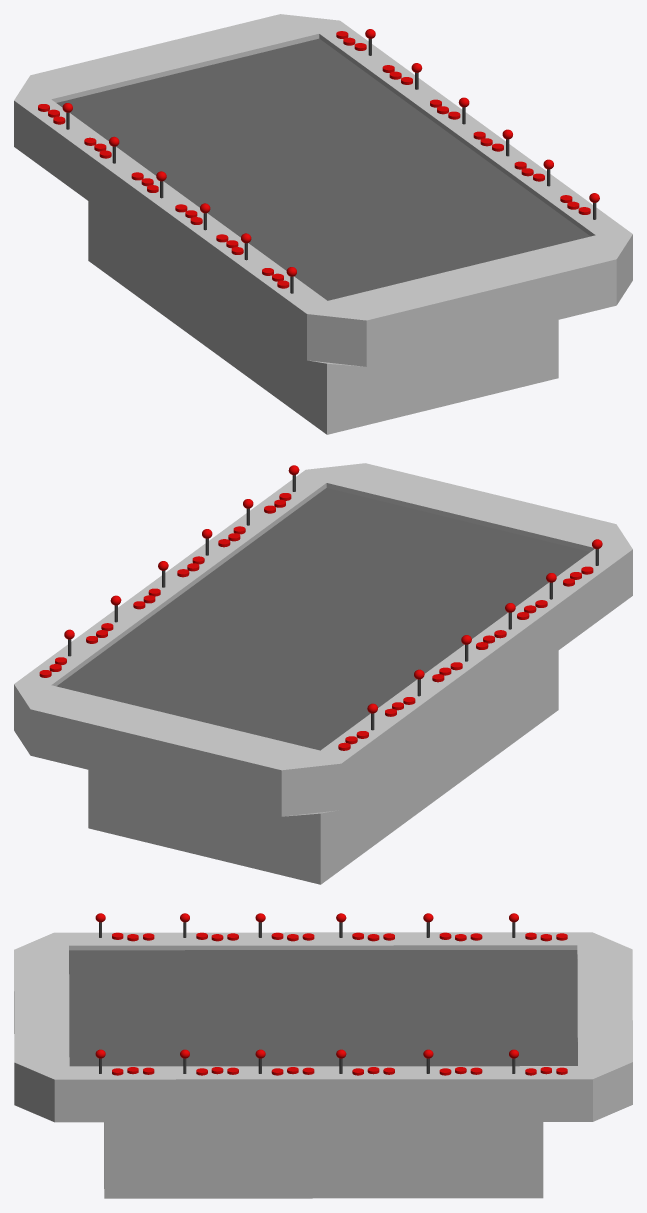
File: partyTable.fbx
The picture shows the model from 3 angles, top to bottom: view 1: azimuth 30°, elevation 25°; view 2: azimuth 150°, elevation 25°; view 3: azimuth 270°, elevation 25°; orthographic projection. The views are drawn at different scales.
Visible parts, largest first — view 1: main_Body; view 2: main_Body; view 3: main_Body.
Boxes of the visible parts, box(x1,y1,x2,y2) form: main_Body: box(14, 14, 632, 434); main_Body: box(14, 463, 632, 884); main_Body: box(14, 932, 632, 1198).
Bounding box in the file's own units: 5.15 × 2.67 × 9.15.
